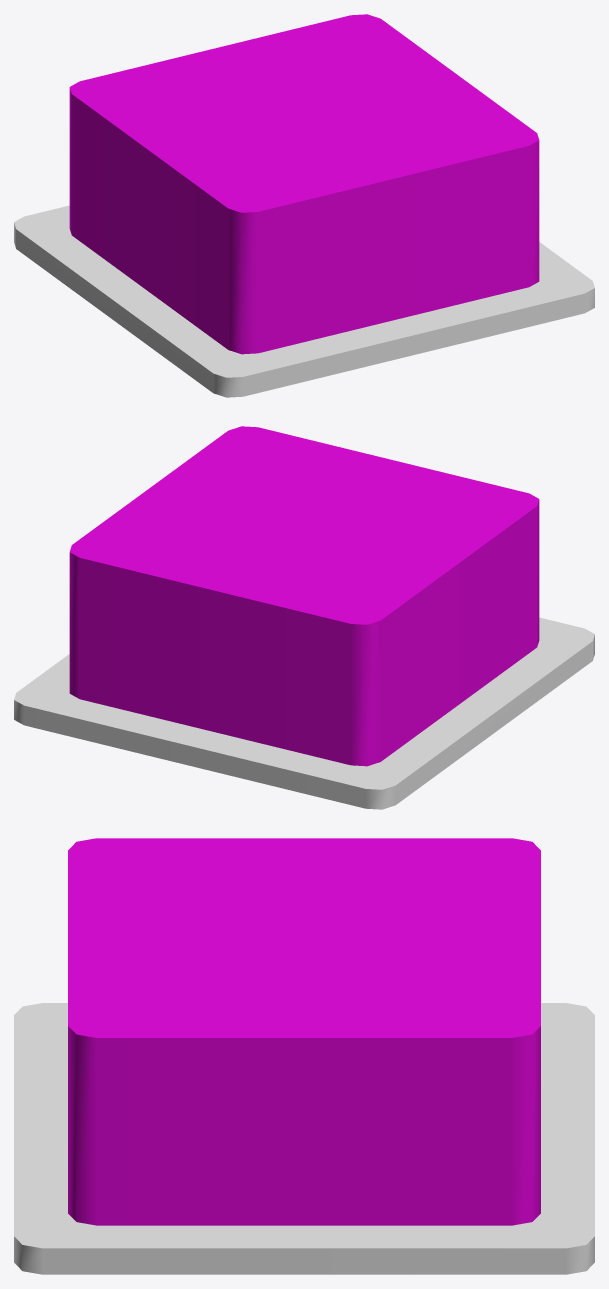
The model's file is GStore_1x1.glb.
3 views of the same model, one above another, from view 1: azimuth 30°, elevation 25°; view 2: azimuth 150°, elevation 25°; view 3: azimuth 270°, elevation 25° (orthographic). The views are drawn at different scales.
Parts seen in each view (by area): view 1: GStore_1x1; view 2: GStore_1x1; view 3: GStore_1x1.
Part boxes in pixels (x1=…): GStore_1x1: x1=14, y1=14, x2=594, y2=397; GStore_1x1: x1=14, y1=426, x2=594, y2=809; GStore_1x1: x1=14, y1=838, x2=594, y2=1274.
Bounding box in the file's own units: 1 × 0.4063 × 1.
